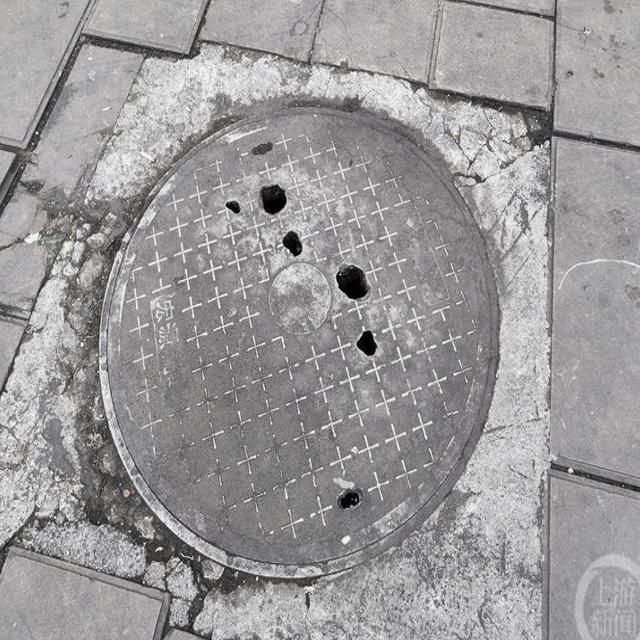circle: (14, 36, 567, 640)
